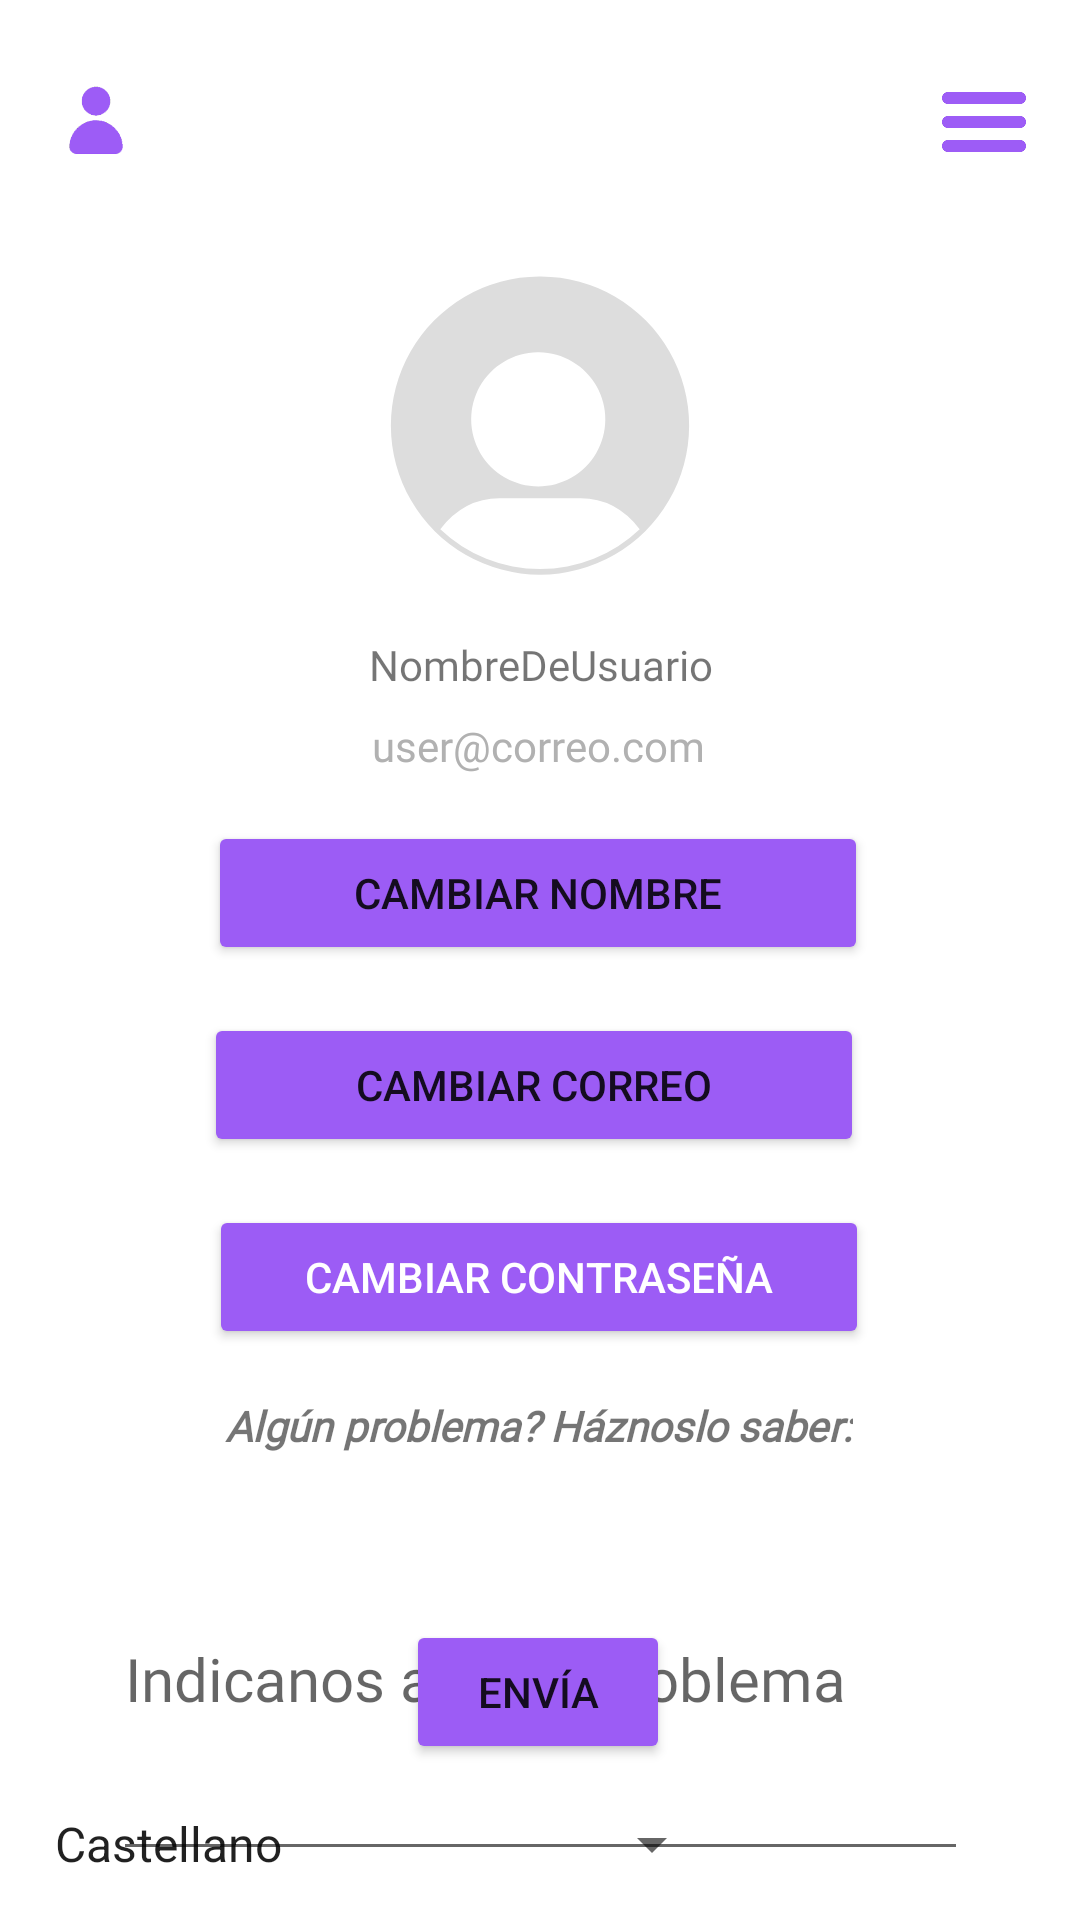

Point at icon controls on the screen. Image size 1080x1920, points as (x,y).
Icono del perfil, decoración: (96,120)
Icono-boton del menú lateral desplegable: (984,122)
